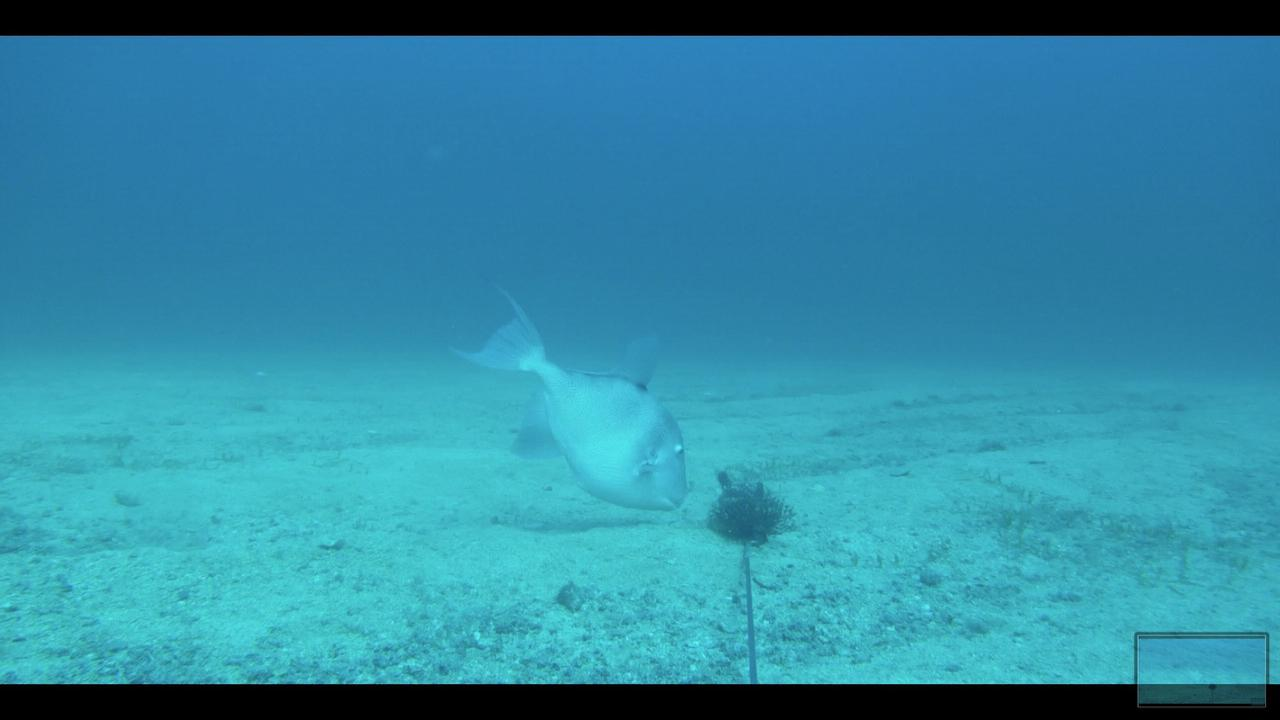balistes: (430, 276, 697, 518)
